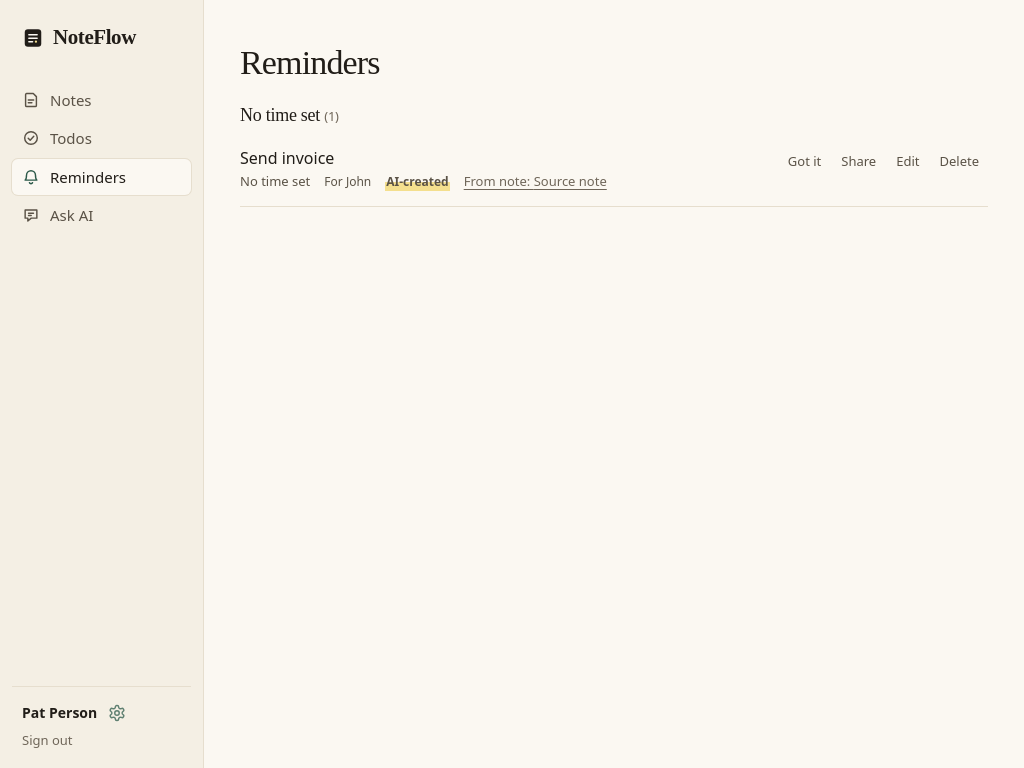
it: editing › refuses a time without a date
Click the button with aria-label "edit: send invoice": click(908, 161) [887, 147, 928, 175]
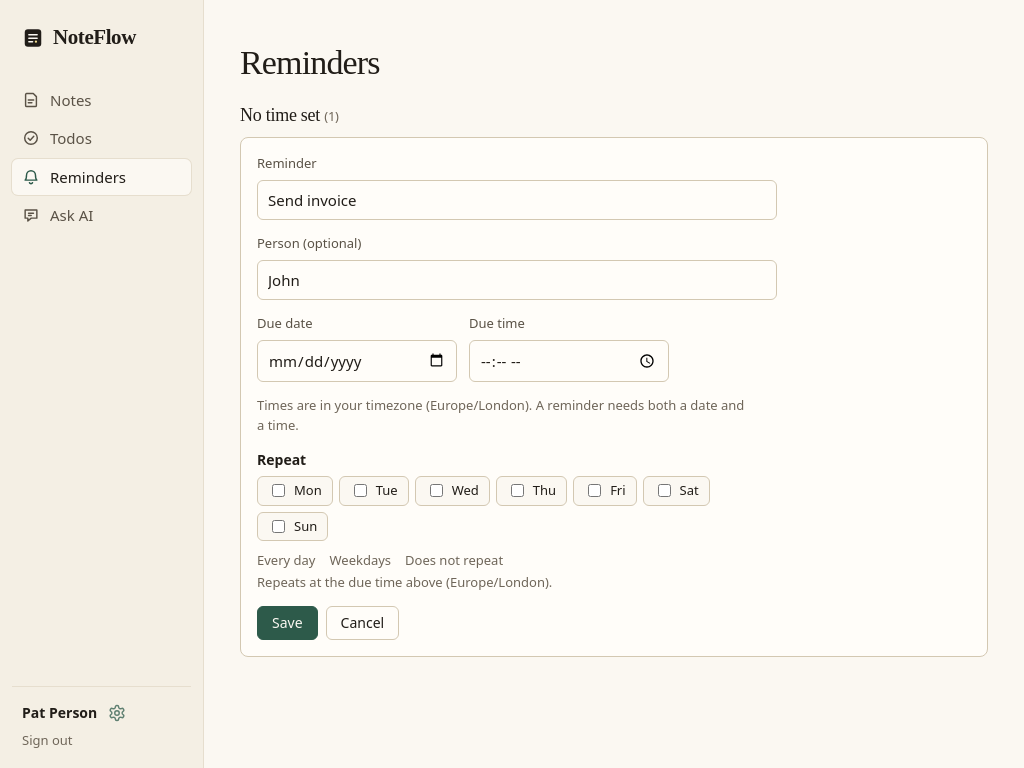
In the time field labelled "Due time": (569, 361) [469, 340, 669, 382], type "09:30"
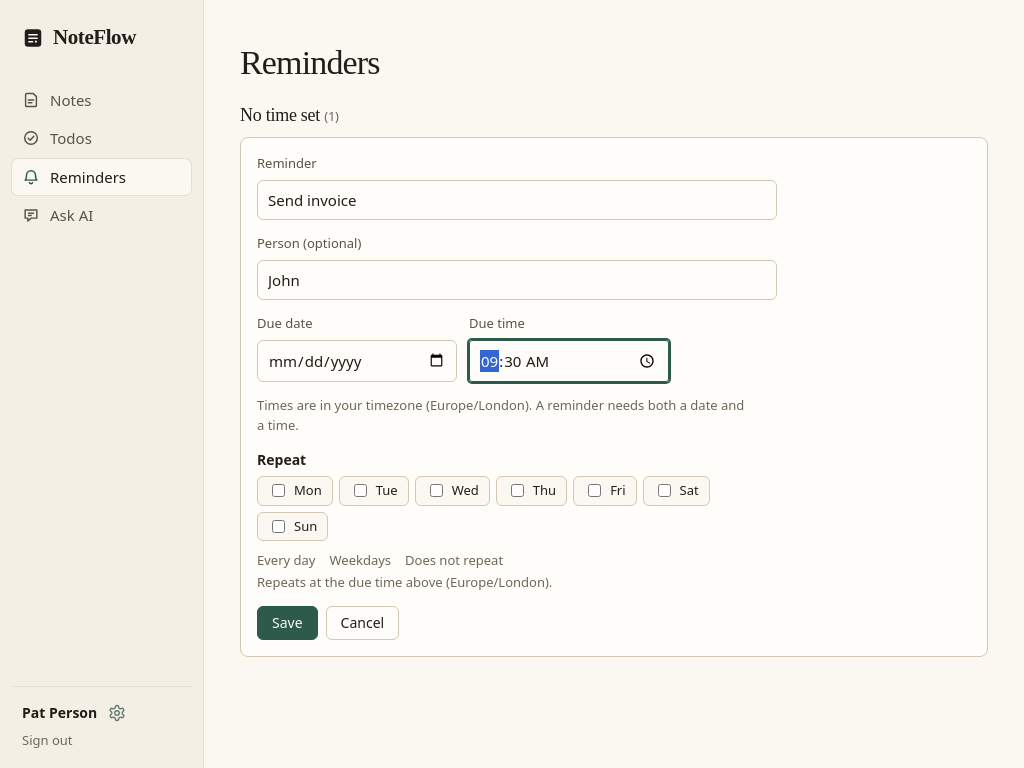
Click the button "Save": click(287, 623) [257, 606, 318, 640]
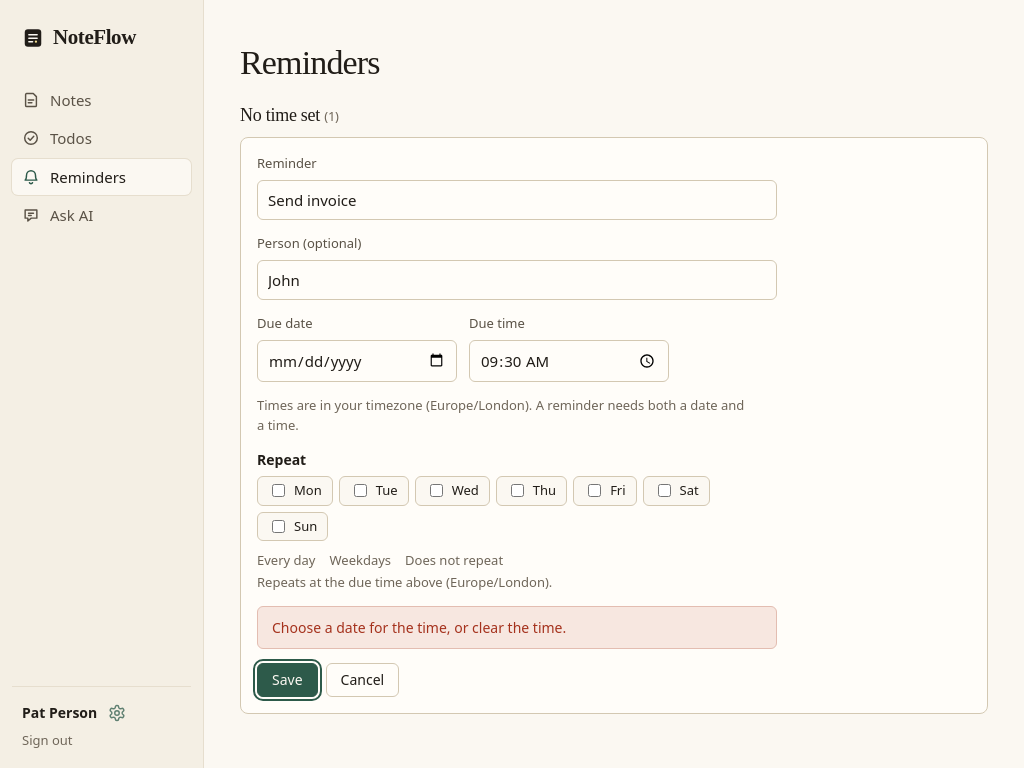
Expected: the message shows "Choose a date", [272, 618, 566, 637]
